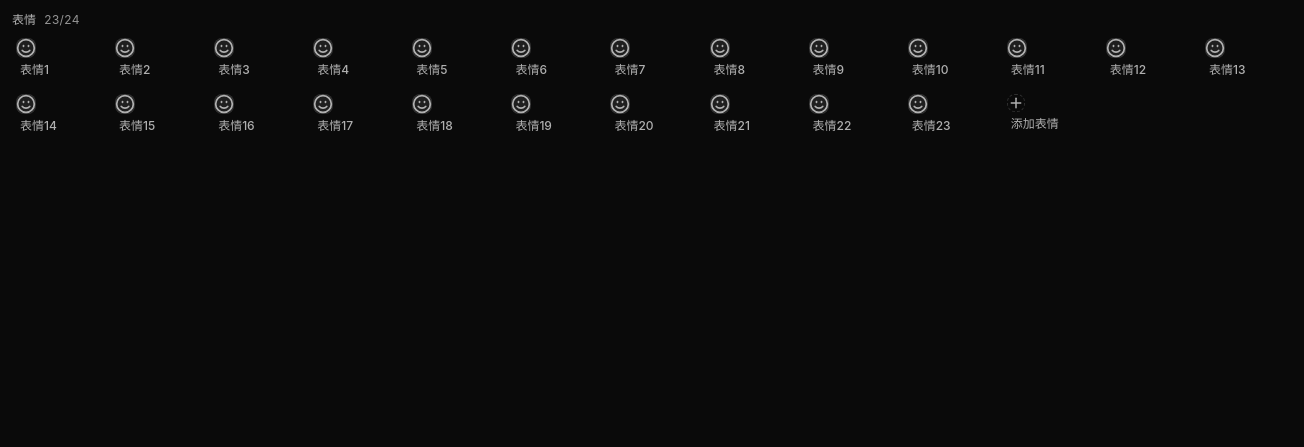
Test case: 角色档案面板 › 表情加满二十四个后入口退出
Click the button "添加表情": (1048, 113) [1003,90,1094,136]
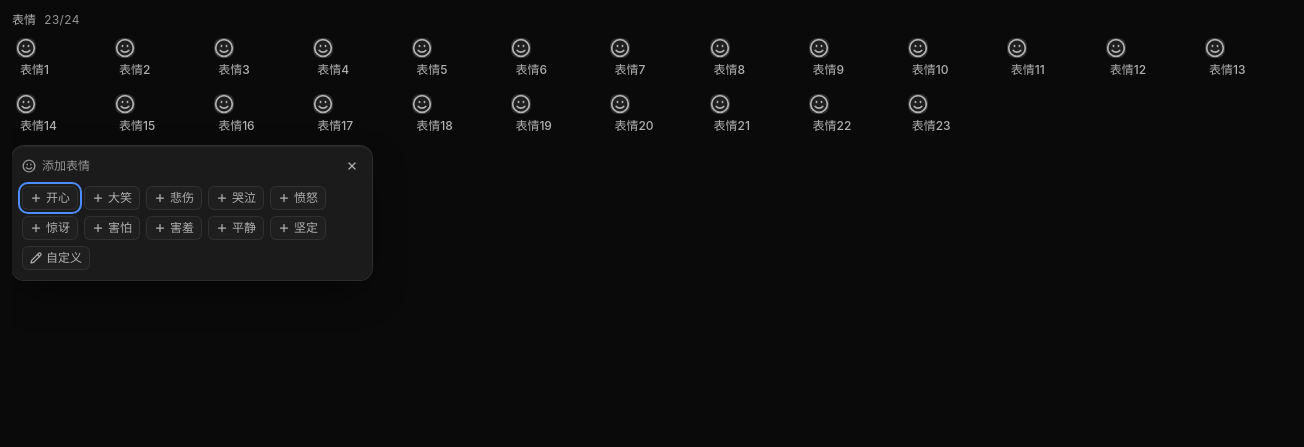
Click the button "开心": (50, 198) [22,186,78,210]
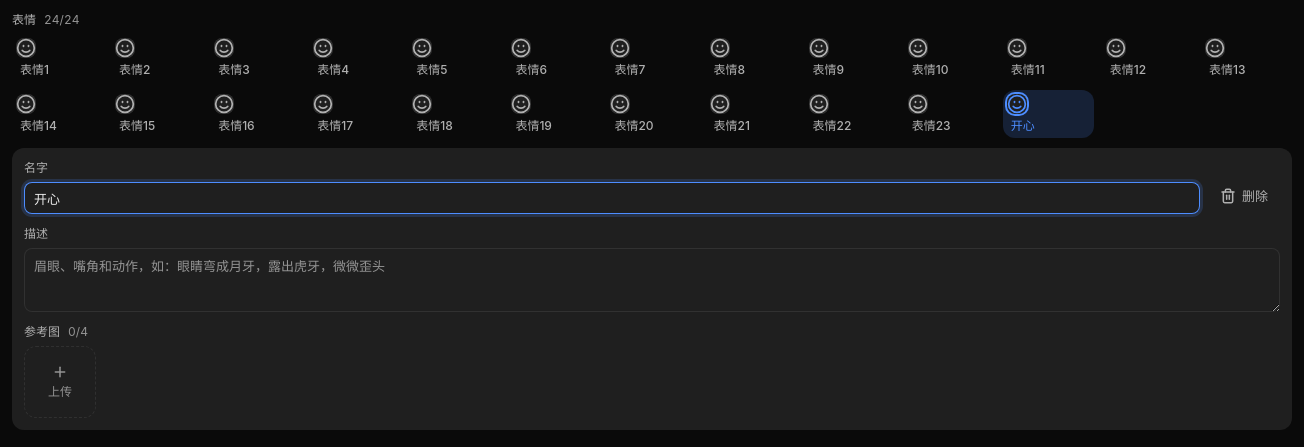
Now the button "添加表情" is gone
